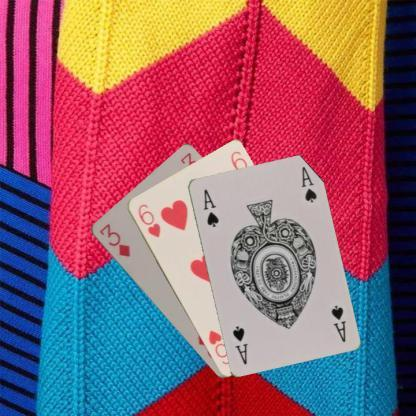3d: (97, 221, 131, 258)
6h: (134, 201, 162, 239)
As: (200, 186, 220, 228), (328, 302, 346, 343)
